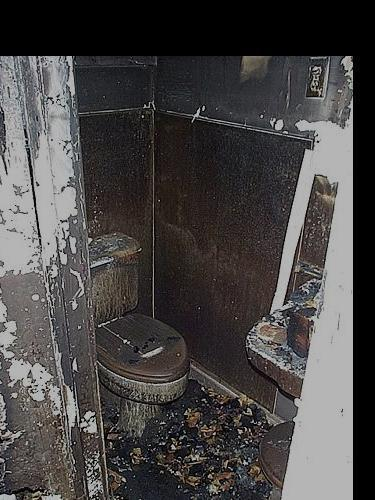Sanitario: (41, 231, 199, 444)
